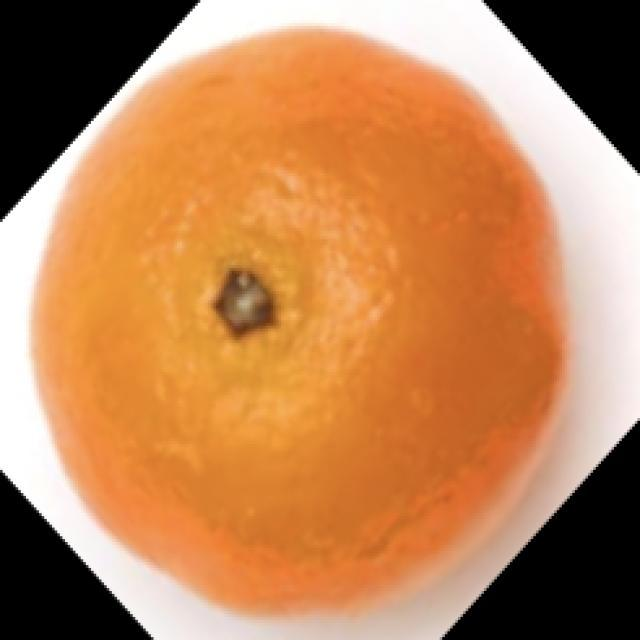Orange: (28, 22, 569, 620)
